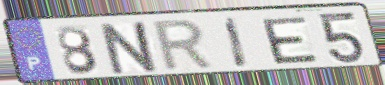5: (314, 11, 367, 65)
8: (55, 25, 100, 76)
E: (258, 14, 322, 66)
I: (222, 16, 252, 70)
N: (98, 19, 163, 76)
R: (151, 17, 218, 74)
